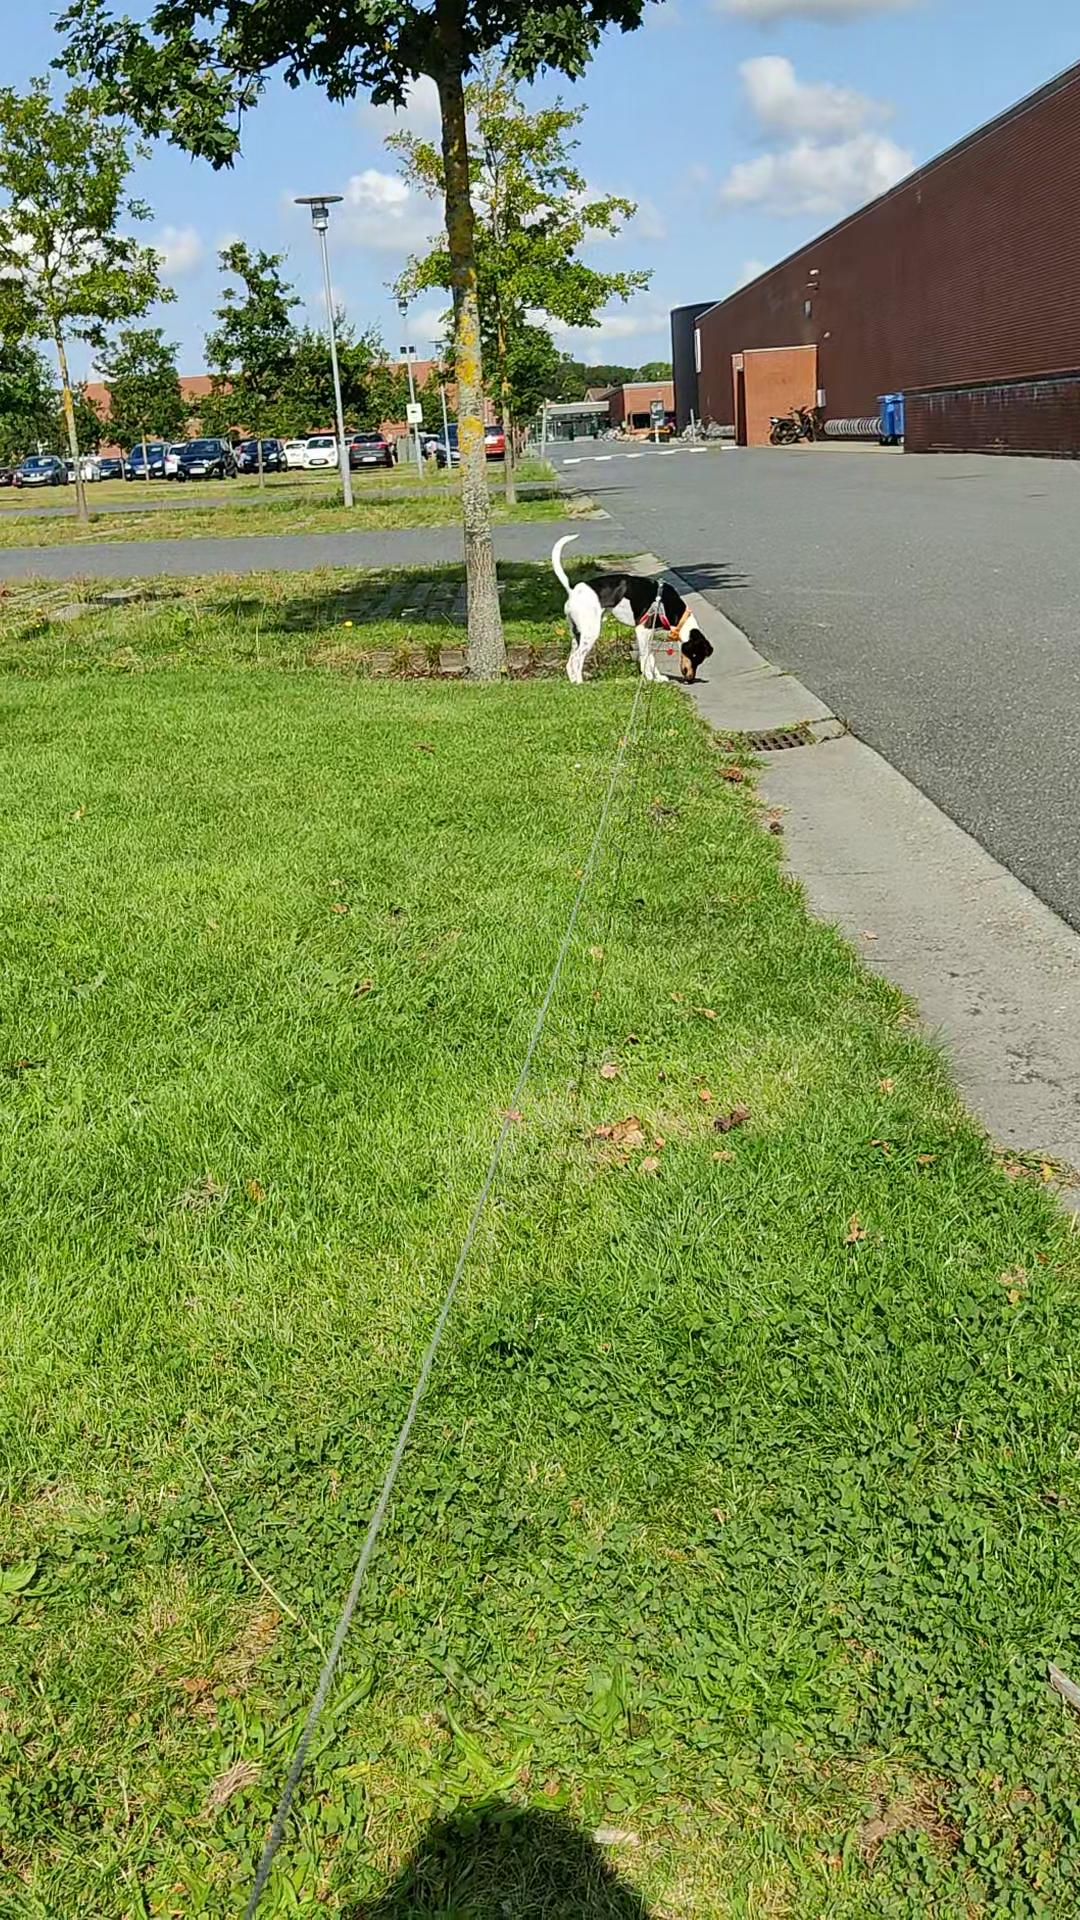Dog: (549, 531, 715, 684)
